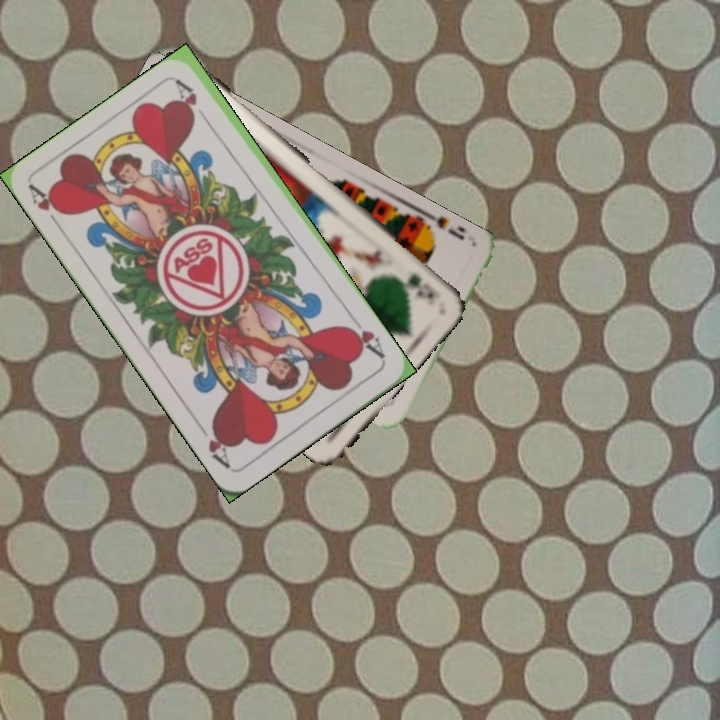GK: (403, 269, 437, 301)
HA: (342, 311, 388, 362), (25, 182, 68, 234)
S9: (416, 214, 468, 243)
